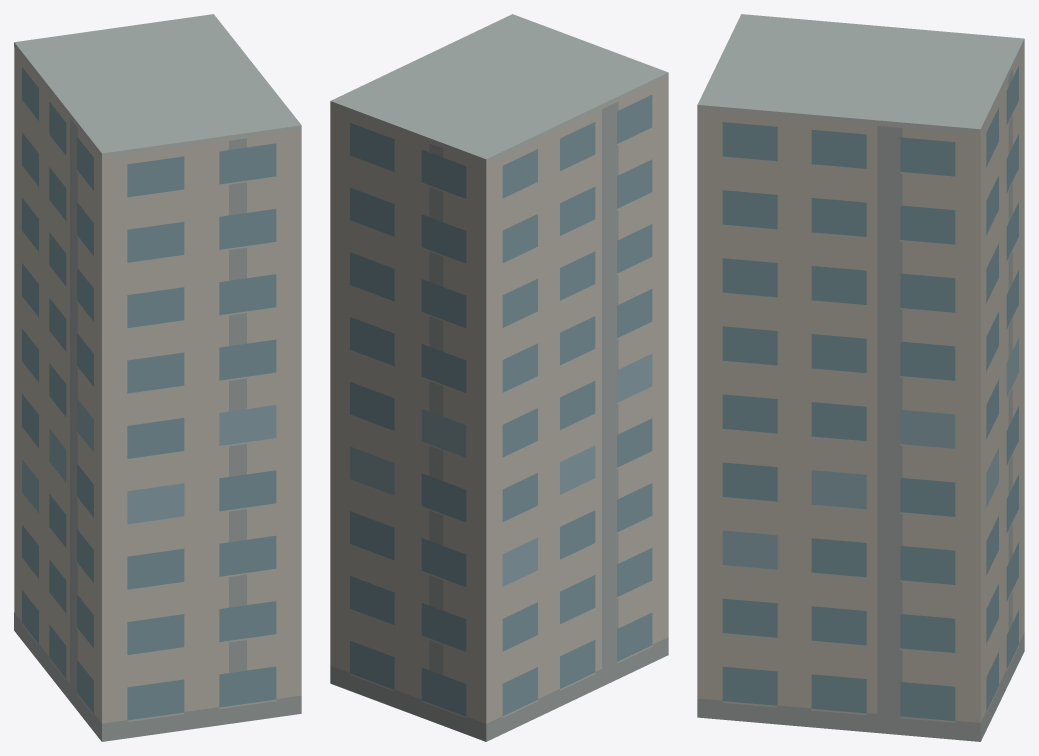
Rendered from residential-6a92a947-c130-4352-ae4a-02f2aee3ab3e.glb.
3 views of the same model, side by side, from view 1: azimuth 30°, elevation 25°; view 2: azimuth 150°, elevation 25°; view 3: azimuth 270°, elevation 25° (orthographic). The views are drawn at different scales.
Visible parts, largest first — view 1: residential-6a92a947-c130-4352-ae4a-02f2aee3ab3e.tmp; view 2: residential-6a92a947-c130-4352-ae4a-02f2aee3ab3e.tmp; view 3: residential-6a92a947-c130-4352-ae4a-02f2aee3ab3e.tmp.
Boxes of the visible parts, x1,y1,x2,y2 form: residential-6a92a947-c130-4352-ae4a-02f2aee3ab3e.tmp: (14, 14, 301, 741); residential-6a92a947-c130-4352-ae4a-02f2aee3ab3e.tmp: (330, 14, 668, 741); residential-6a92a947-c130-4352-ae4a-02f2aee3ab3e.tmp: (697, 14, 1024, 741).
Size of the model in its own units: 11.08 by 27.45 by 13.29.
